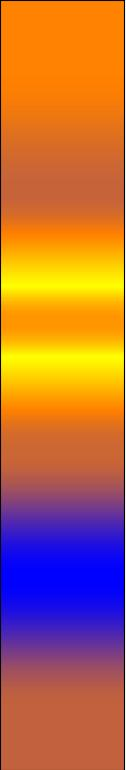Thermal Runaway: (8, 226, 115, 423), (5, 6, 116, 120)
critical: (11, 652, 110, 762), (11, 436, 118, 504), (11, 136, 111, 205)
safe: (7, 518, 112, 643)
